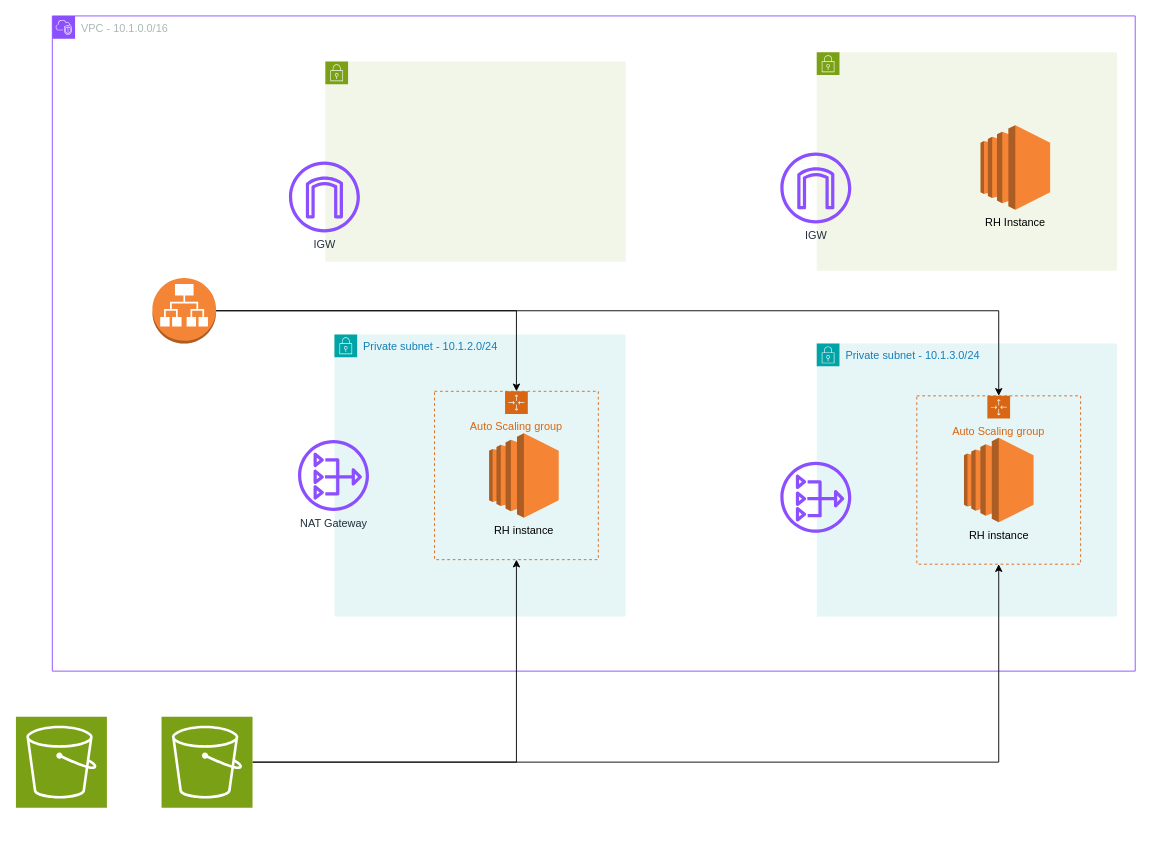
Image size: 1151x856. Some labels were removed from this diagram. The box of each missing label's shape, as (x1, y1, x2, y2) in pixels:
Application Load Balancer: (152, 277, 216, 344)
Images Bucket: (161, 716, 253, 808)
Log Bucket: (15, 716, 107, 808)
Public subnet - 10.1.0.0/24: (324, 61, 626, 262)
Public subnet - 10.1.1.0/24: (816, 51, 1117, 271)
